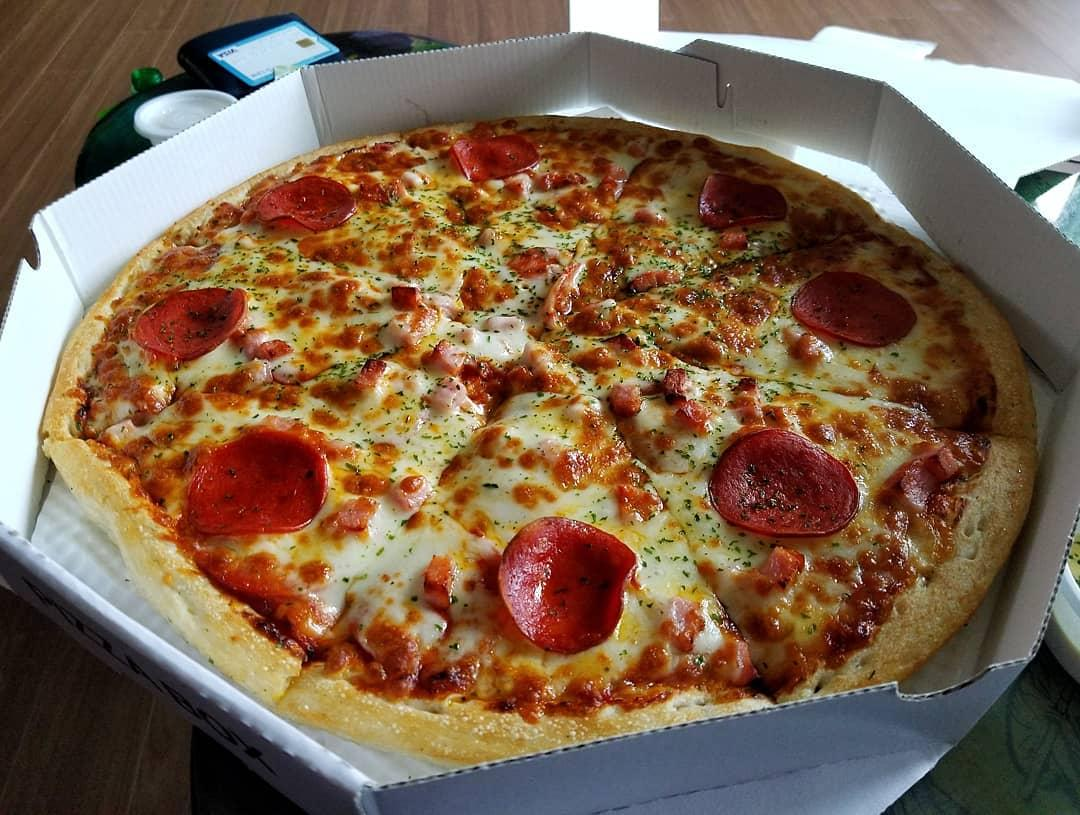Ham: (885, 439, 962, 524), (709, 627, 758, 686), (415, 550, 469, 600), (240, 323, 295, 361), (630, 258, 684, 295), (759, 545, 807, 586), (780, 326, 835, 361), (380, 276, 426, 313), (603, 381, 649, 418), (397, 475, 437, 516), (428, 372, 463, 414), (338, 493, 372, 535), (427, 336, 472, 365), (716, 226, 753, 253), (661, 364, 686, 403), (600, 155, 629, 186), (636, 207, 670, 230)
Pepperoni: (498, 507, 642, 661), (707, 422, 864, 540), (183, 426, 329, 542), (788, 262, 920, 351), (127, 283, 253, 365), (253, 173, 365, 233), (696, 164, 791, 231), (444, 134, 548, 185)
Pizza: (30, 104, 1052, 775)
